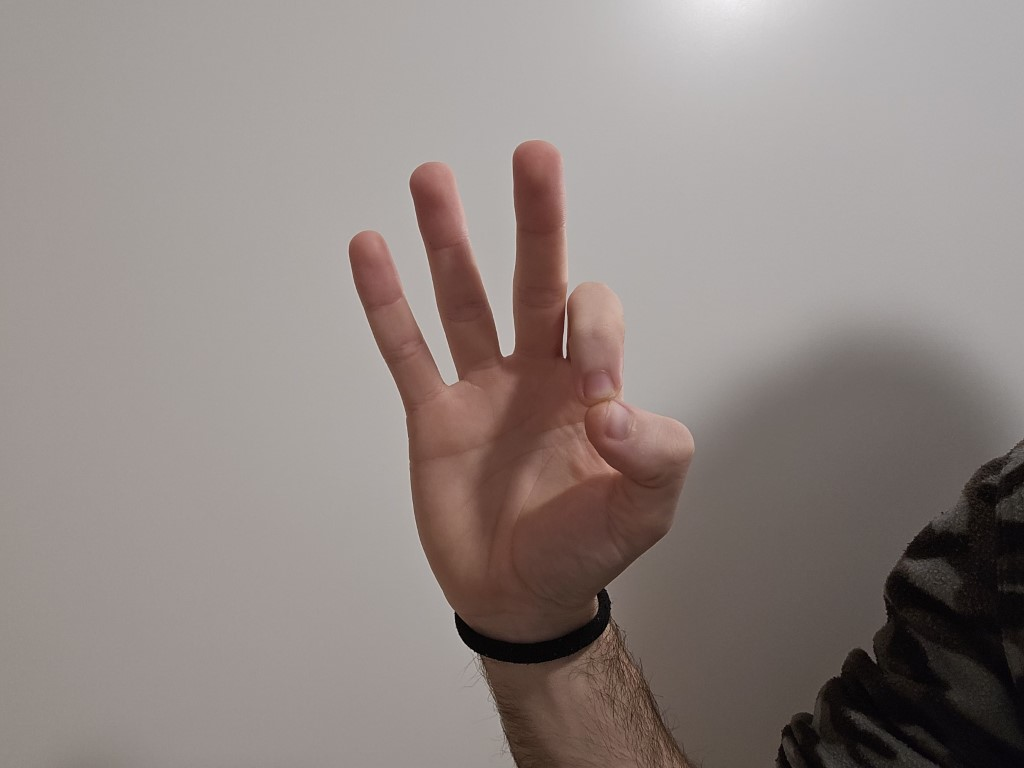f: (318, 126, 716, 620)
